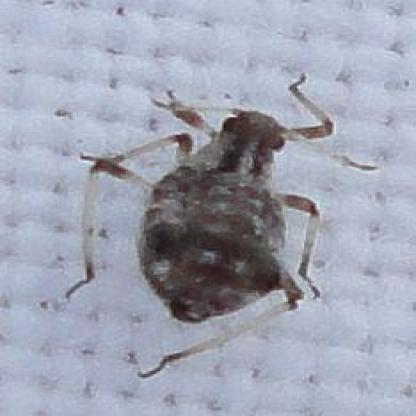aphid: (52, 69, 362, 350)
